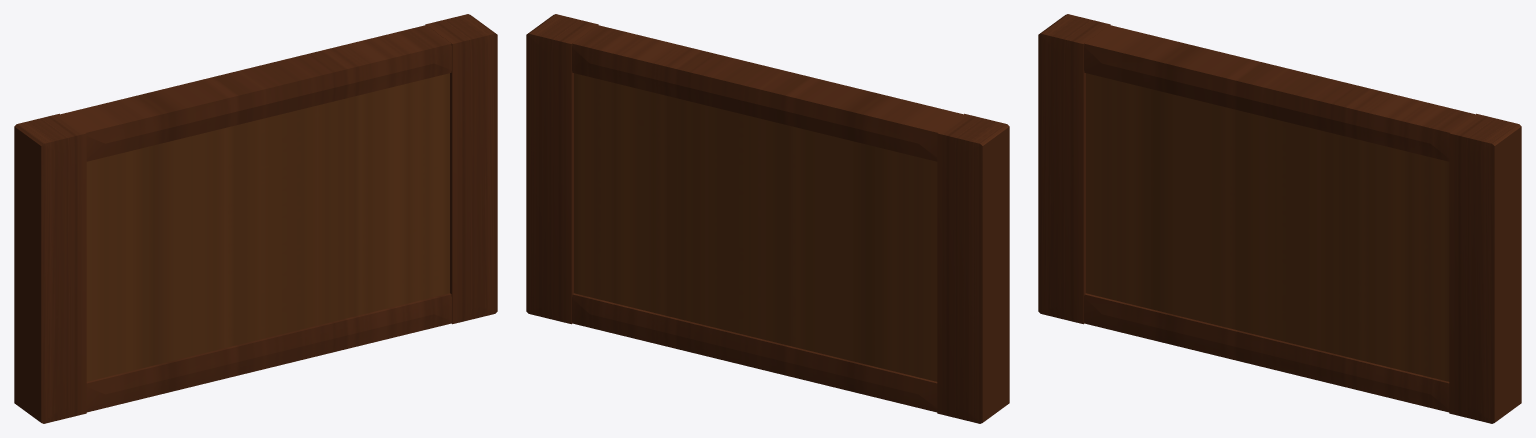
Rendered from Half_Wall_Wood.fbx.
The picture shows the model from 3 angles, left to right: view 1: azimuth 30°, elevation 25°; view 2: azimuth 150°, elevation 25°; view 3: azimuth 330°, elevation 25°; orthographic projection.
Parts seen in each view (by area): view 1: Half_Wall_Wood; view 2: Half_Wall_Wood; view 3: Half_Wall_Wood.
Boxes of the visible parts, x1=… form: Half_Wall_Wood: x1=14, y1=14, x2=497, y2=423; Half_Wall_Wood: x1=526, y1=14, x2=1009, y2=423; Half_Wall_Wood: x1=1038, y1=14, x2=1521, y2=423.
Bounding box in the file's own units: 212 × 124 × 23.4.
